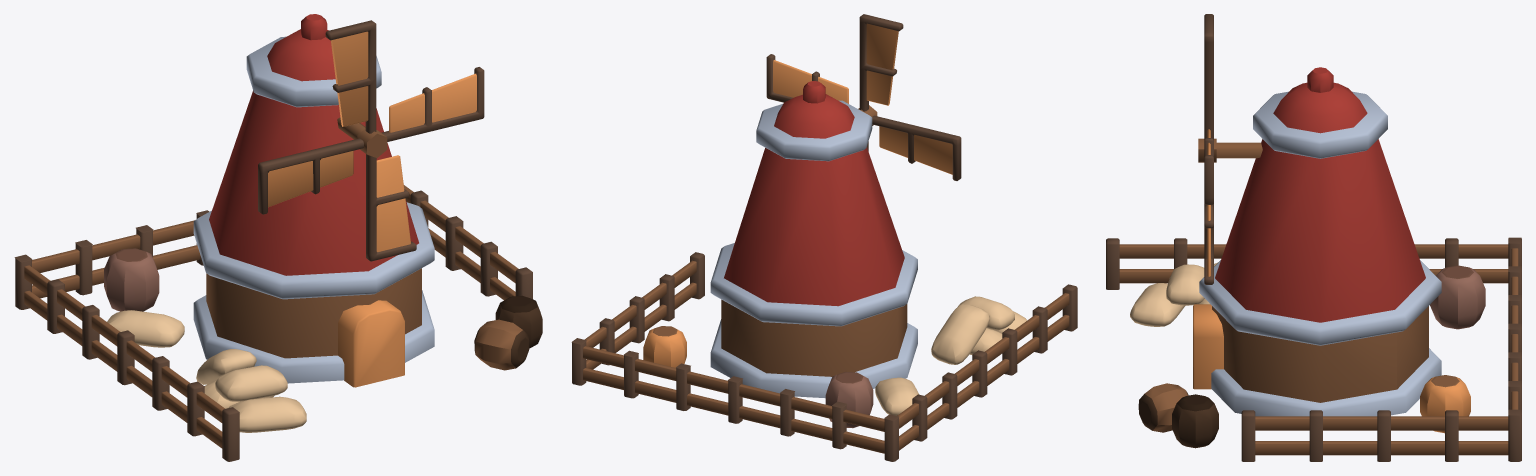
File: Mill.fbx
The picture shows the model from 3 angles, left to right: view 1: azimuth 30°, elevation 25°; view 2: azimuth 150°, elevation 25°; view 3: azimuth 270°, elevation 25°; orthographic projection. The views are drawn at different scales.
Visible parts, largest first — view 1: Cylinder.225, Cylinder.227, Cube.1117, Cube.1081, Cube.1115, Cylinder.226, Cube.1116, Cylinder.228, Cylinder.243, Cube.1073, Cube.1077, Cube.1075 (+15 smaller); view 2: Cylinder.225, Cube.1116, Cylinder.227, Cube.1114, Cylinder.226, Cube.1117, Cylinder.228, Cube.1115, Cube.1119, Cube.1174, Cube.1073, Cube.1118 (+9 smaller); view 3: Cylinder.225, Cube.1119, Cylinder.227, Cylinder.226, Cylinder.228, Cube.1117, Cube.1118, Cylinder.243, Cube.1114, Cube.1081, Cylinder.234, Cylinder.242 (+9 smaller).
Boxes of the visible parts, x1,y1,x2,y2 form: Cylinder.225: (206,14,421,358); Cylinder.227: (193,202,434,299); Cube.1117: (24,265,224,448); Cube.1081: (338,300,404,387); Cube.1115: (47,279,239,461); Cylinder.226: (193,290,434,383); Cube.1116: (32,220,200,298); Cylinder.228: (246,36,381,107); Cylinder.243: (104,248,159,311); Cube.1073: (331,31,368,126); Cube.1077: (389,73,476,132); Cube.1075: (376,155,410,252); Cylinder.225: (721,81,907,376); Cube.1116: (583,346,884,453); Cylinder.227: (710,243,917,326); Cube.1114: (571,338,898,461); Cylinder.226: (710,319,917,398); Cube.1117: (897,293,1069,450); Cylinder.228: (756,100,872,161); Cube.1115: (912,284,1077,441); Cube.1119: (584,260,696,369); Cube.1174: (931,304,989,364); Cube.1073: (866,23,898,105); Cube.1118: (599,252,704,365); Cylinder.225: (1212,67,1428,402); Cube.1119: (1255,416,1508,455); Cylinder.227: (1199,260,1441,345); Cylinder.226: (1211,348,1441,416); Cylinder.228: (1253,91,1387,158); Cube.1117: (1119,244,1508,283); Cube.1118: (1241,410,1458,461); Cylinder.243: (1430,265,1485,329); Cube.1114: (1508,237,1521,461); Cube.1081: (1193,304,1223,389); Cylinder.234: (1172,394,1218,448); Cylinder.242: (1420,375,1470,433).
Bounding box in the file's own units: 180 × 162 × 178.
